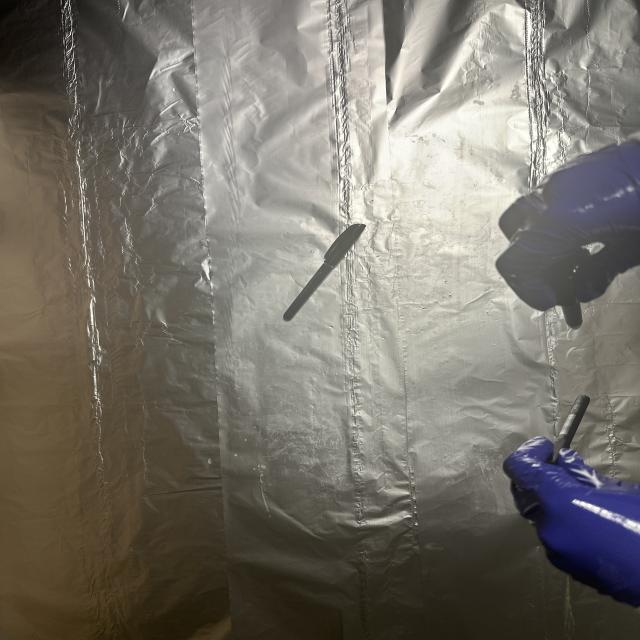gloves_contaminated: (496, 133, 640, 311), (503, 437, 640, 607)
